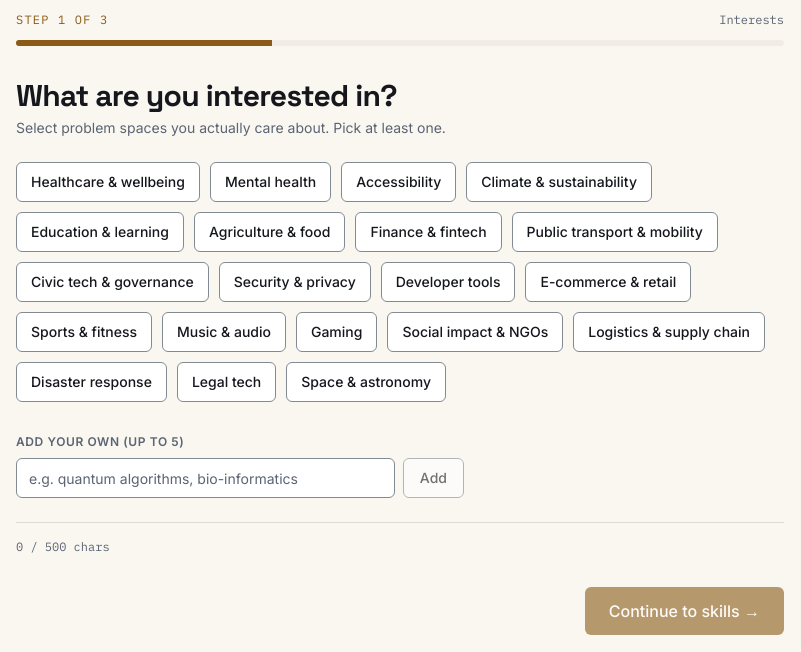
onboarding › blocks step 1 until an interest is chosen
Expected: the button "Continue to skills →" is disabled, [585,587,784,635]
Click the button "Accessibility" at (399, 182), box [341,162,456,202]
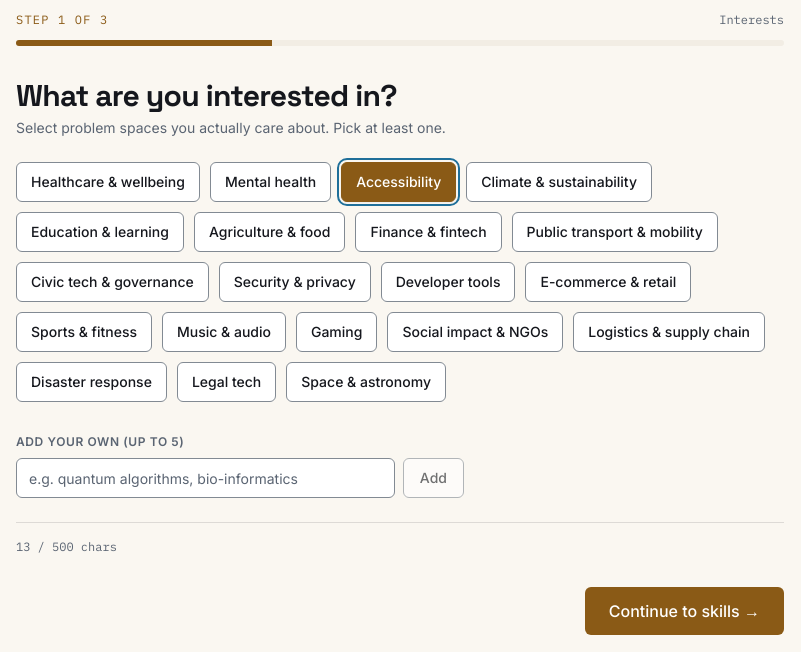
Expected: the button "Continue to skills →" is enabled, [585,587,784,635]
